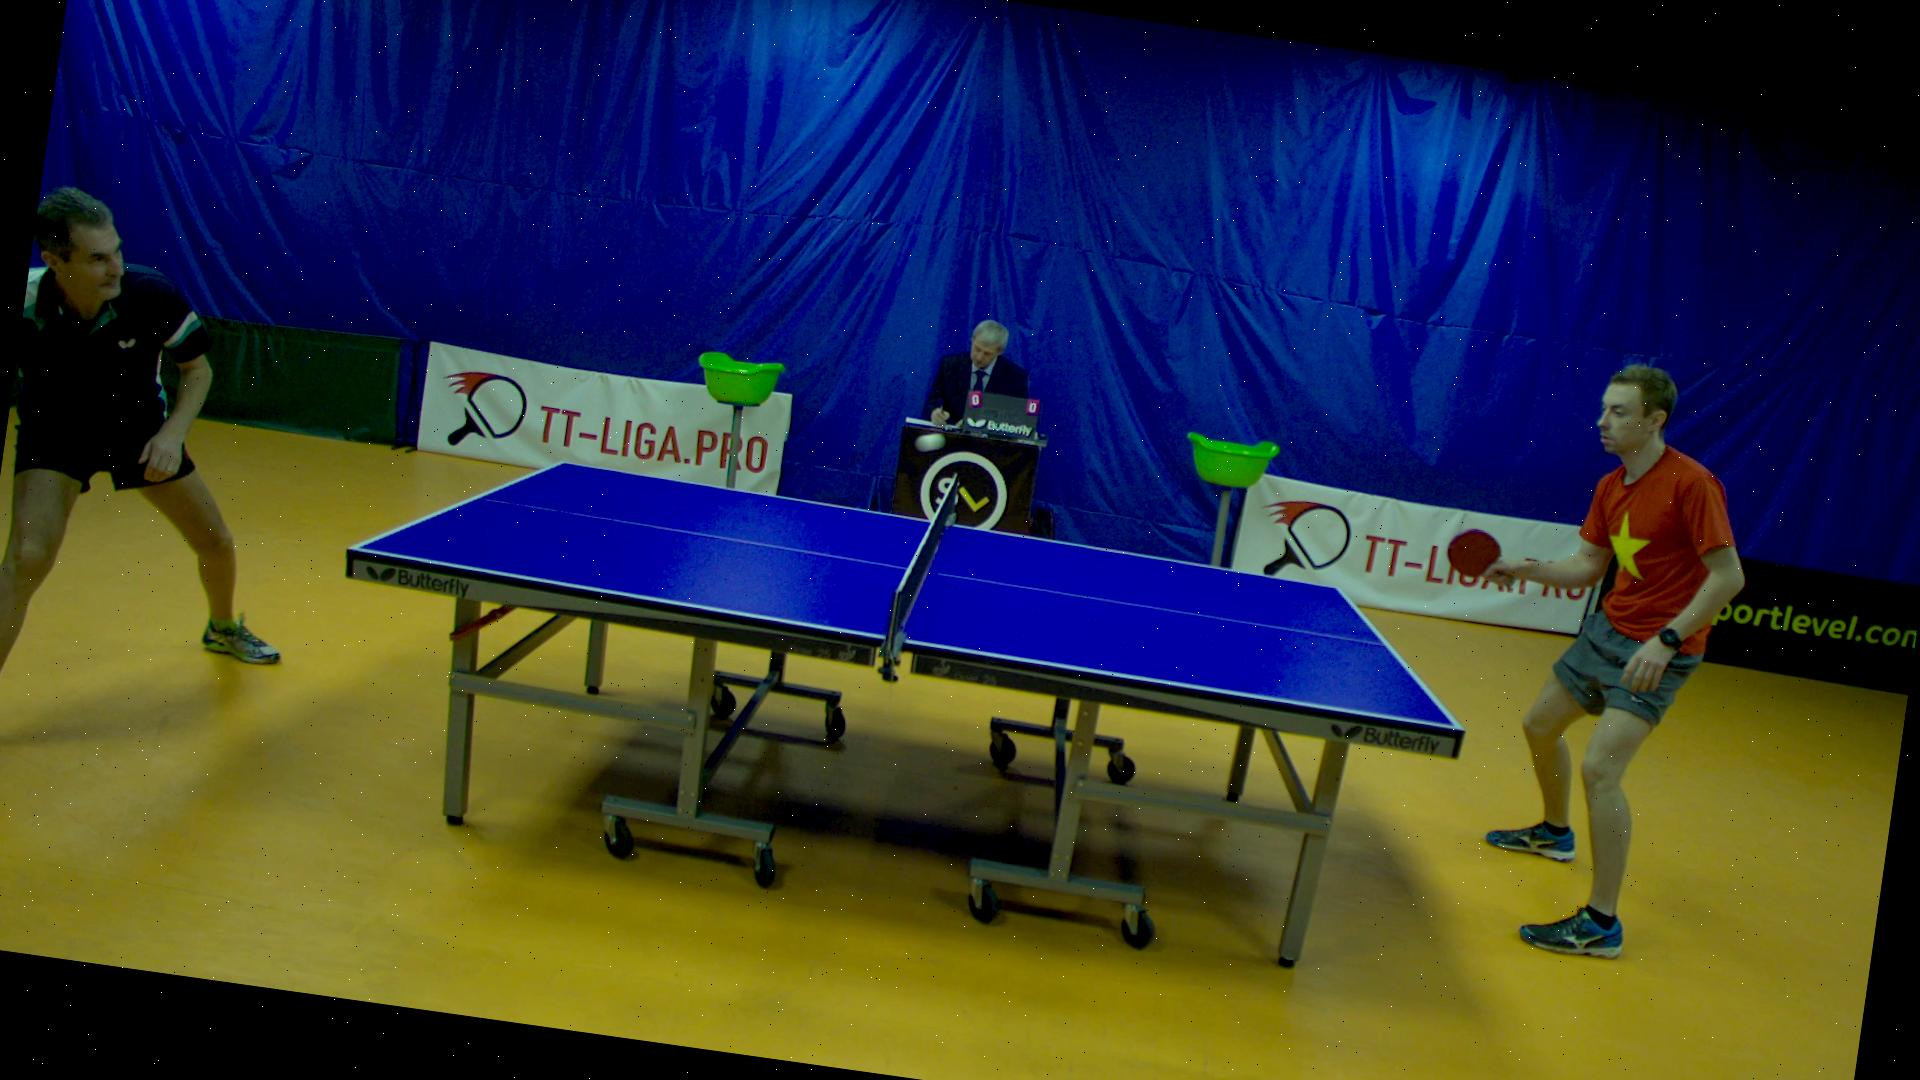ball: (911, 426, 948, 458)
